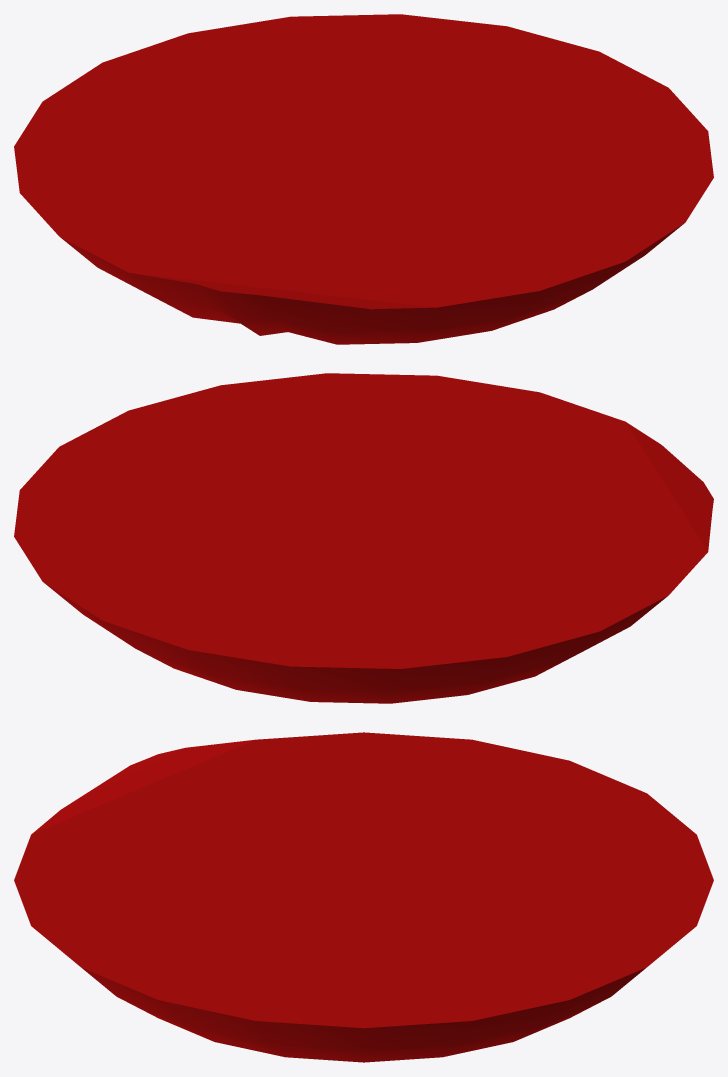
The model's file is TomaSlice7.fbx.
3 views of the same model, one above another, from view 1: azimuth 30°, elevation 25°; view 2: azimuth 150°, elevation 25°; view 3: azimuth 270°, elevation 25° (orthographic).
Parts seen in each view (by area): view 1: TomatoSlice7; view 2: TomatoSlice7; view 3: TomatoSlice7.
Boxes of the visible parts, left/top/right/bottom form: TomatoSlice7: left=14, top=14, right=713, bottom=344; TomatoSlice7: left=14, top=373, right=713, bottom=703; TomatoSlice7: left=14, top=732, right=713, bottom=1062.
Bounding box in the file's own units: 1.62 × 0.2855 × 1.62.
